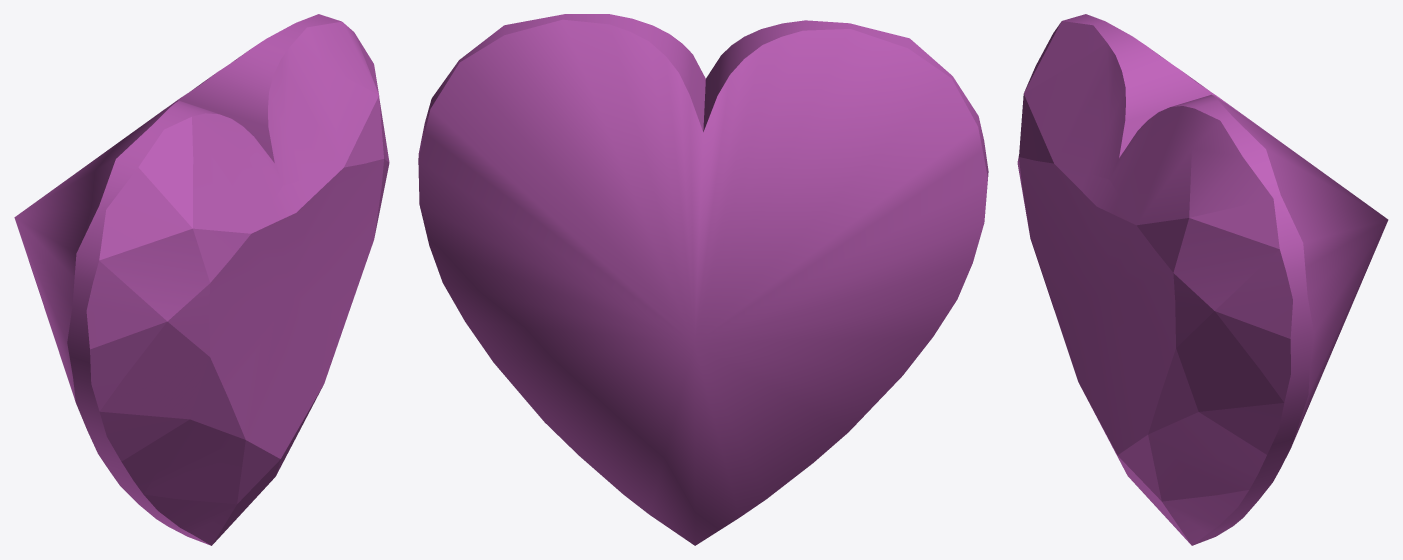
Rendered from TR2_8shapes_heart_Classic_Stone.001 2.glb.
The picture shows the model from 3 angles, left to right: view 1: azimuth 30°, elevation 25°; view 2: azimuth 150°, elevation 25°; view 3: azimuth 270°, elevation 25°; orthographic projection. The views are drawn at different scales.
Parts seen in each view (by area): view 1: TR2_8shapes_heart_Classic_Stone.001; view 2: TR2_8shapes_heart_Classic_Stone.001; view 3: TR2_8shapes_heart_Classic_Stone.001.
Boxes of the visible parts, x1,y1,x2,y2 form: TR2_8shapes_heart_Classic_Stone.001: (14,14,389,545); TR2_8shapes_heart_Classic_Stone.001: (418,14,988,545); TR2_8shapes_heart_Classic_Stone.001: (1017,14,1388,545).
Size of the model in its own units: 0.4546 by 0.4964 by 0.3483.
